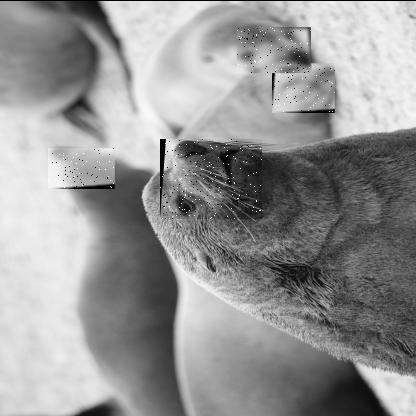face: (160, 137, 263, 218), (237, 25, 312, 72), (272, 61, 336, 112), (48, 146, 116, 188)
